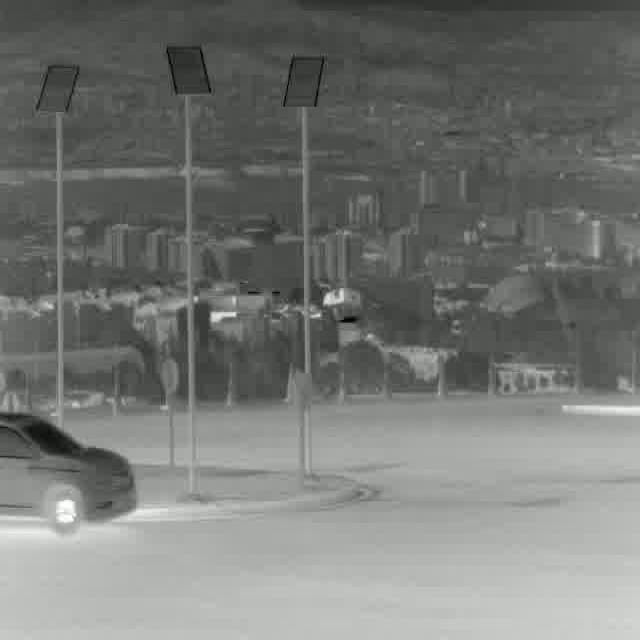Car: (0, 410, 138, 530)
